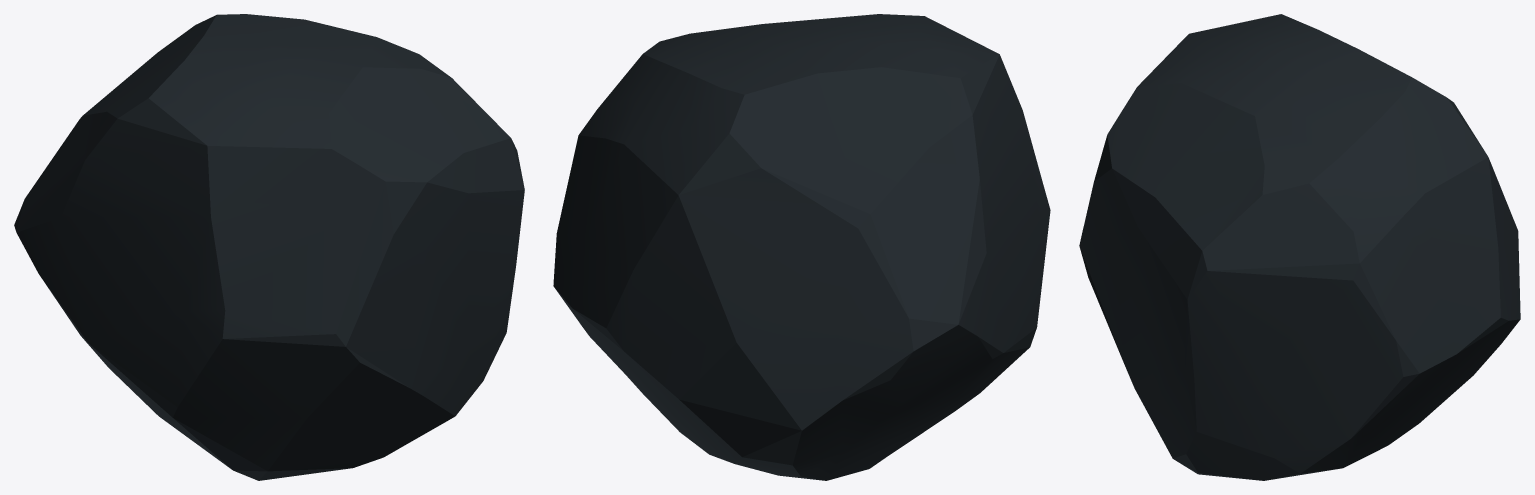
The model's file is Asteroid_s_27.FBX.
The picture shows the model from 3 angles, left to right: view 1: azimuth 30°, elevation 25°; view 2: azimuth 150°, elevation 25°; view 3: azimuth 270°, elevation 25°; orthographic projection. The views are drawn at different scales.
Parts seen in each view (by area): view 1: Asteroid_s_27; view 2: Asteroid_s_27; view 3: Asteroid_s_27.
Boxes of the visible parts, x1,y1,x2,y2 form: Asteroid_s_27: [14, 14, 524, 480]; Asteroid_s_27: [553, 14, 1050, 480]; Asteroid_s_27: [1079, 14, 1520, 480].
Bounding box in the file's own units: 123 × 115 × 123.
